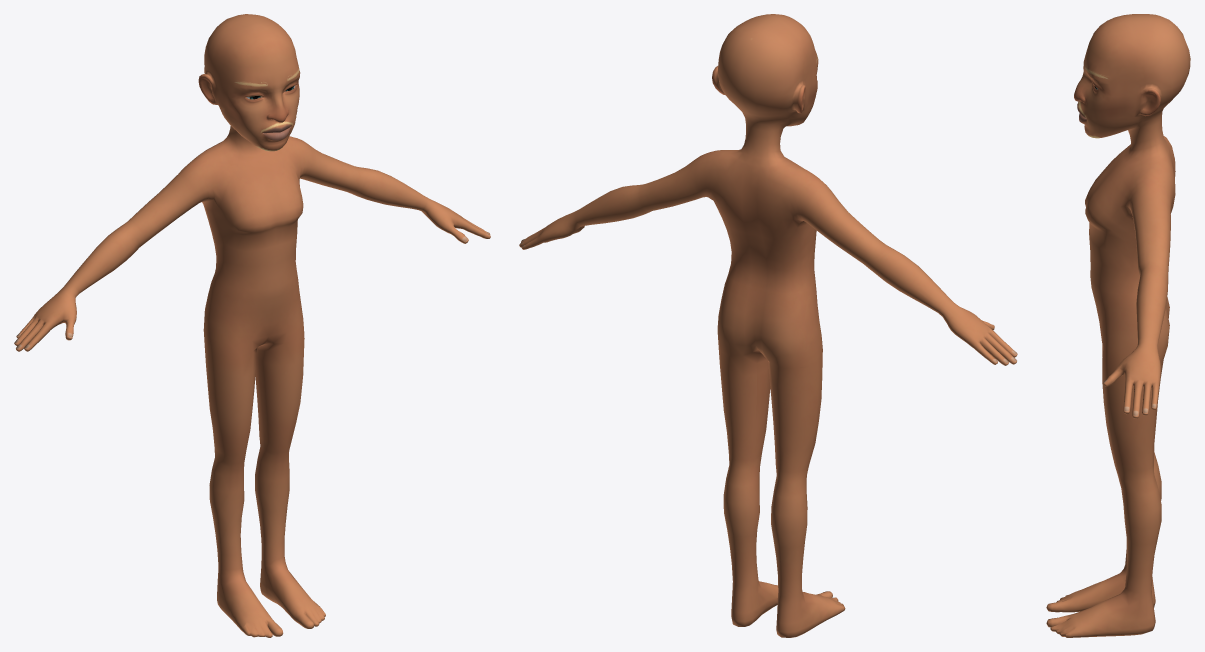
Rendered from frame_0082.glb.
3 views of the same model, side by side, from view 1: azimuth 30°, elevation 25°; view 2: azimuth 150°, elevation 25°; view 3: azimuth 270°, elevation 25° (orthographic). The views are drawn at different scales.
Visible parts, largest first — view 1: frame_0082_head_geo; view 2: frame_0082_head_geo; view 3: frame_0082_head_geo.
Boxes of the visible parts, <box> form: frame_0082_head_geo: <box>14,14,490,637</box>; frame_0082_head_geo: <box>519,14,1017,637</box>; frame_0082_head_geo: <box>1046,14,1190,637</box>.
Bounding box in the file's own units: 1.28 × 1.5 × 0.3253.
Materials: 3 (3 with a texture image).
